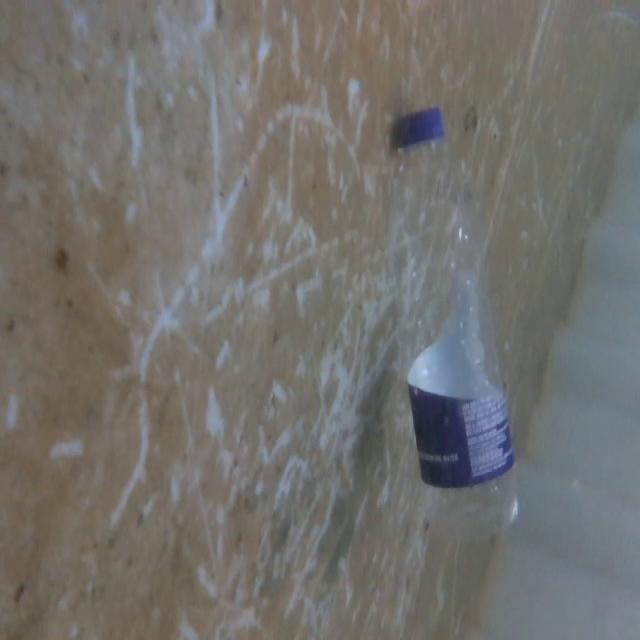plastic bottle: (375, 100, 540, 550)
